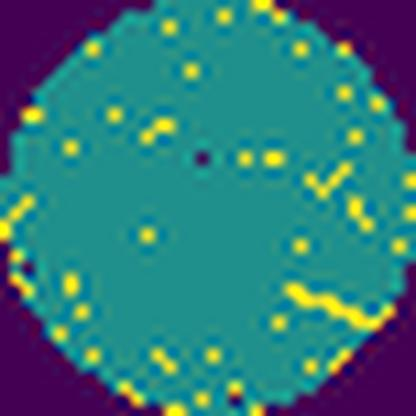Scratch: (283, 282, 398, 334)
